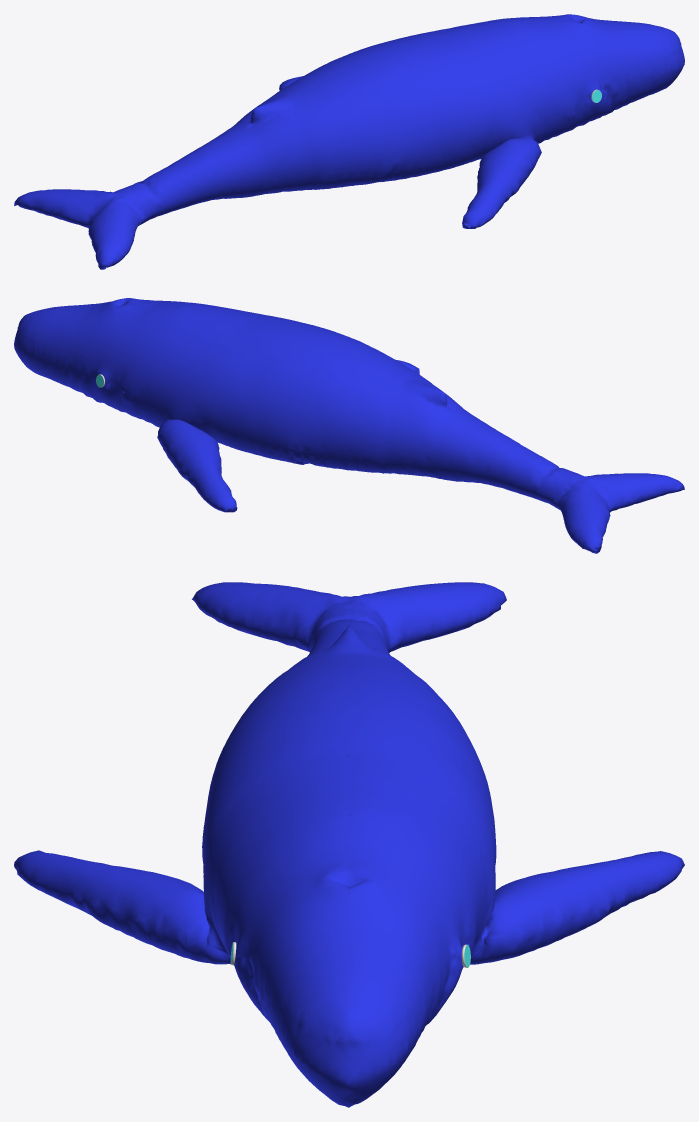
The model's file is Plushy-Animals.fbx.
3 views of the same model, one above another, from view 1: azimuth 30°, elevation 25°; view 2: azimuth 150°, elevation 25°; view 3: azimuth 270°, elevation 25° (orthographic). The views are drawn at different scales.
Parts seen in each view (by area): view 1: Whale Plushy; view 2: Whale Plushy; view 3: Whale Plushy.
Part boxes in pixels (<box>): Whale Plushy: <box>14,14,684,269</box>; Whale Plushy: <box>14,298,684,553</box>; Whale Plushy: <box>14,582,684,1107</box>.
Bounding box in the file's own units: 2446 × 391 × 1308.
